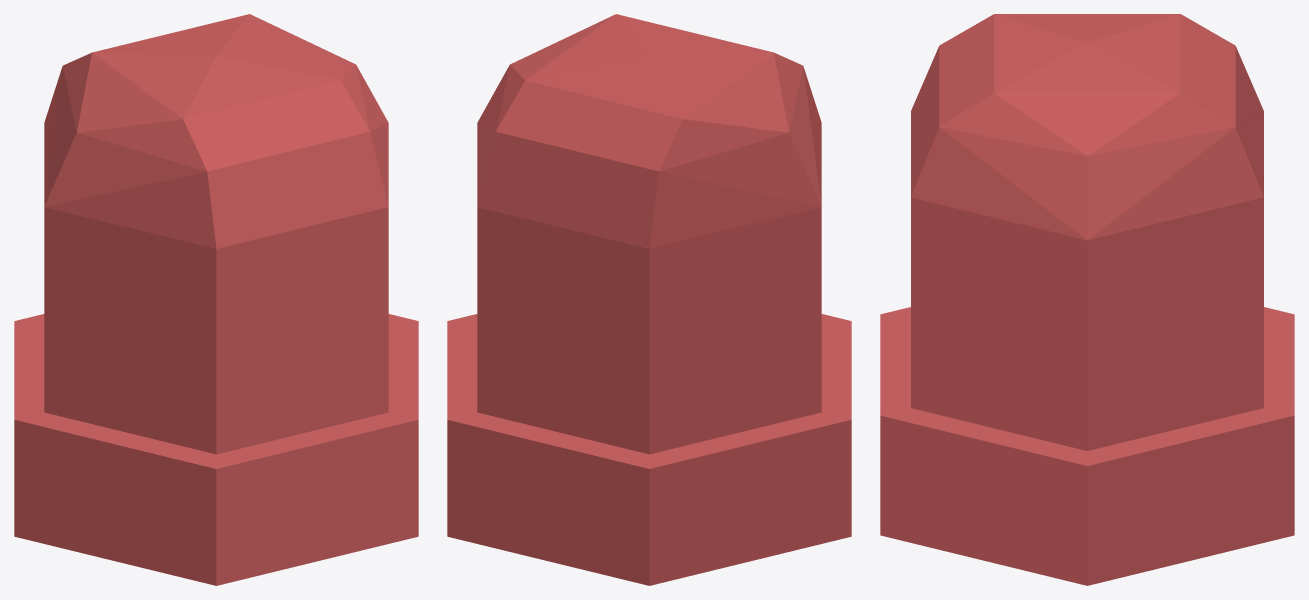
File: hatena_switch_start.glb
3 renders of one model, left to right at view 1: azimuth 30°, elevation 25°; view 2: azimuth 150°, elevation 25°; view 3: azimuth 270°, elevation 25°, orthographic. The views are drawn at different scales.
Visible parts, largest first — view 1: hatena_switch_start_col; view 2: hatena_switch_start_col; view 3: hatena_switch_start_col.
Part boxes in pixels (x1,y1,x2,y2): hatena_switch_start_col: (14, 14, 418, 585); hatena_switch_start_col: (447, 14, 851, 585); hatena_switch_start_col: (880, 14, 1294, 585).
Size of the model in its own units: 2.53 by 2.58 by 2.19.
